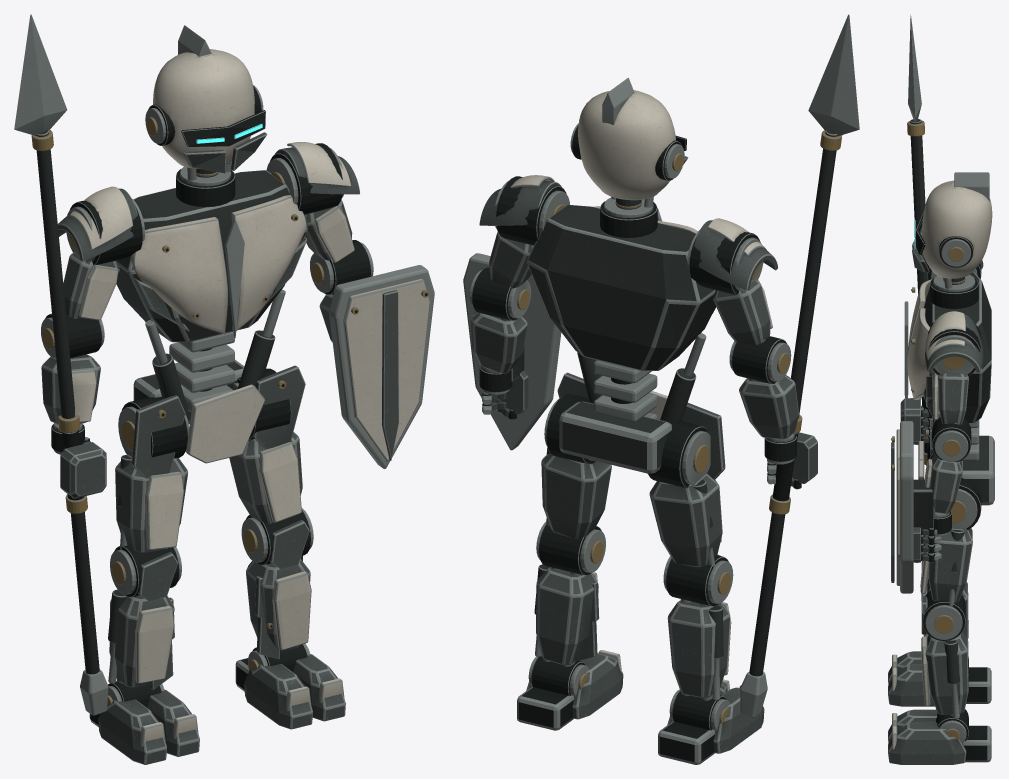
File: speed-t3-duelist-v1.glb
3 views of the same model, side by side, from view 1: azimuth 30°, elevation 25°; view 2: azimuth 150°, elevation 25°; view 3: azimuth 270°, elevation 25° (orthographic). The views are drawn at different scales.
Parts seen in each view (by area): view 1: chest__clay, weaponR__metal, shieldL__clay, pelvis__metal, chest__metal, pelvis__clay, head__clay, kneeL__clay, kneeR__clay, shoulderR__clay, ankleL__clay, ankleR__clay (+15 smaller); view 2: chest__metal, pelvis__metal, weaponR__metal, head__clay, shieldL__metal, kneeL__clay, shoulderR__clay, hipR__clay, hipL__clay, kneeR__clay, shoulderL__clay, ankleL__metal (+17 smaller); view 3: head__clay, chest__metal, shoulderL__clay, ankleL__clay, shieldL__metal, pelvis__metal, kneeL__clay, hipL__clay, weaponR__metal, kneeL__metal, head__metal, chest__clay (+14 smaller).
Boxes of the visible parts, x1,y1,x2,y2 form: chest__clay: (130,195,306,334); weaponR__metal: (14,14,108,715); shieldL__clay: (343,278,430,461); pelvis__metal: (118,289,291,458); chest__metal: (116,166,307,342); pelvis__clay: (131,365,305,478); head__clay: (153,49,267,173); kneeL__clay: (246,520,311,659); kneeR__clay: (109,552,177,689); shoulderR__clay: (57,186,137,320); ankleL__clay: (244,654,345,729); ankleR__clay: (98,689,199,764); chest__metal: (527,197,715,370); pelvis__metal: (544,333,710,488); weaponR__metal: (740,14,859,717); head__clay: (578,90,688,200); shieldL__metal: (463,253,561,450); kneeL__clay: (536,567,599,665); shoulderR__clay: (694,218,777,344); hipR__clay: (649,473,722,567); hipL__clay: (541,453,611,538); kneeR__clay: (667,554,731,697); shoulderL__clay: (479,175,561,288); ankleL__metal: (517,656,589,730); head__clay: (912,180,992,278); chest__metal: (904,271,991,423); shoulderL__clay: (925,311,983,424); ankleL__clay: (888,709,966,764); shieldL__metal: (891,421,935,593); pelvis__metal: (925,409,994,529); kneeL__clay: (921,596,968,714); hipL__clay: (920,528,972,602); weaponR__metal: (907,14,929,465); kneeL__metal: (922,590,965,718); head__metal: (914,172,989,288); chest__clay: (907,279,932,407).
Size of the model in its own units: 2.88 by 5.14 by 0.7889.
Materials: 11 (10 with a texture image).
